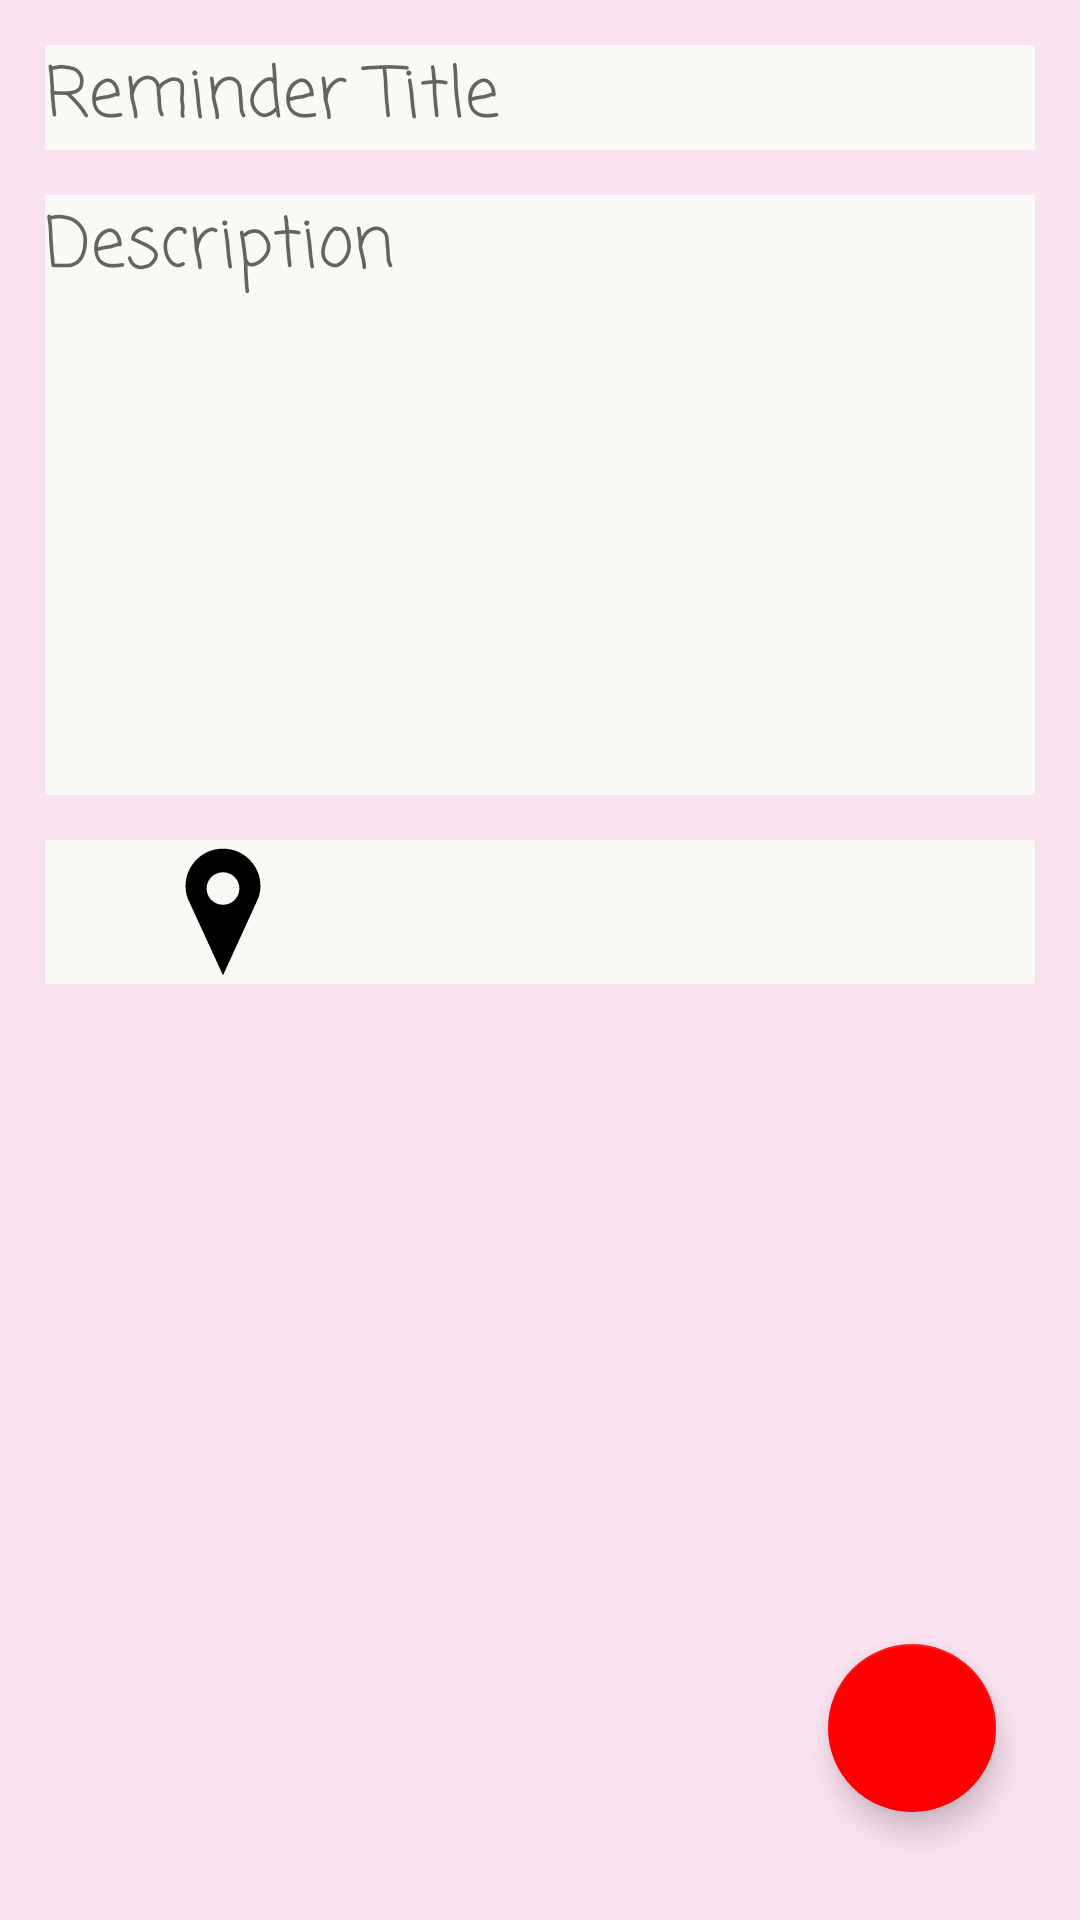

Where to tap for icons on this 1080px x 1920px app screen, as (x,y):
location: (223,911)
